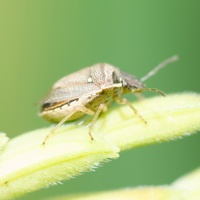insect: (40, 55, 178, 144)
